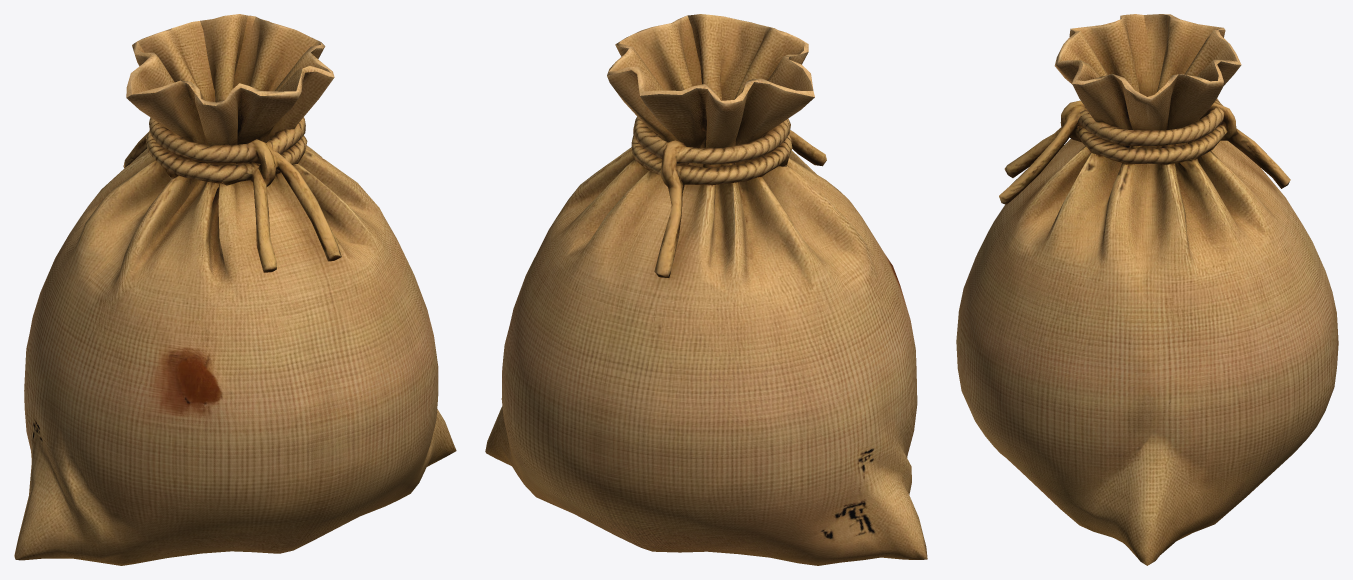
The model's file is flour_sack.glb.
3 views of the same model, side by side, from view 1: azimuth 30°, elevation 25°; view 2: azimuth 150°, elevation 25°; view 3: azimuth 270°, elevation 25° (orthographic). The views are drawn at different scales.
Parts seen in each view (by area): view 1: world; view 2: world; view 3: world.
Part boxes in pixels (box(x1,y1,x2,y2)): world: box(14, 14, 456, 565); world: box(485, 14, 927, 565); world: box(956, 14, 1338, 565).
Bounding box in the file's own units: 0.994 × 0.9934 × 0.8086.
Materials: 1 (1 with a texture image).
